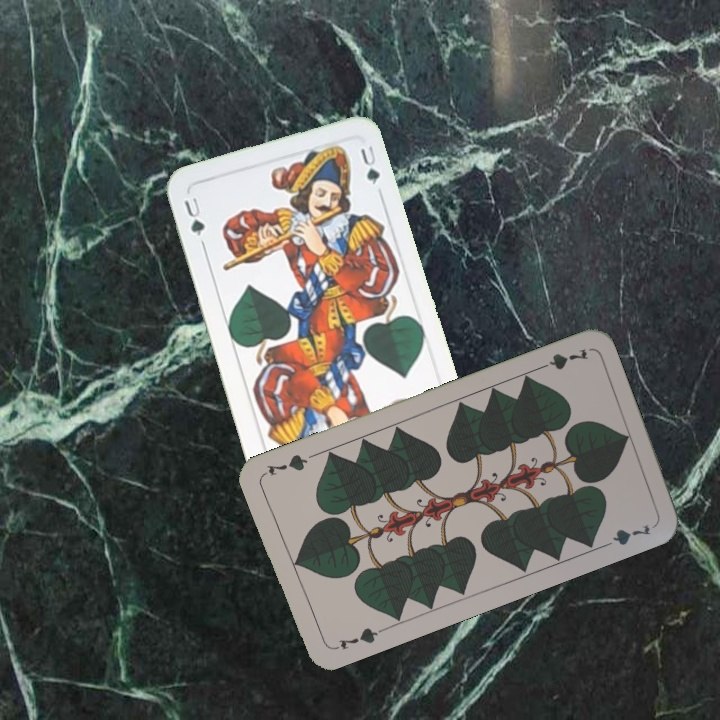G7: (328, 623, 386, 653), (532, 344, 591, 373)
GU: (179, 193, 207, 239)
